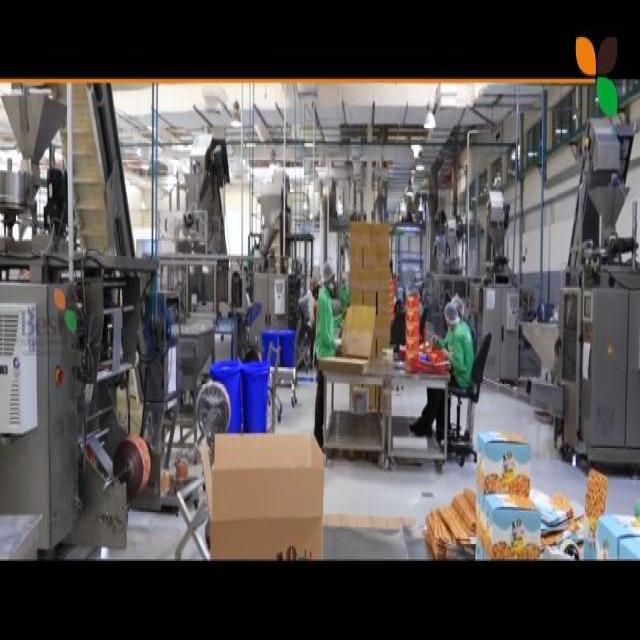hairnet: (443, 302, 458, 326), (454, 292, 466, 318), (321, 261, 334, 283)
